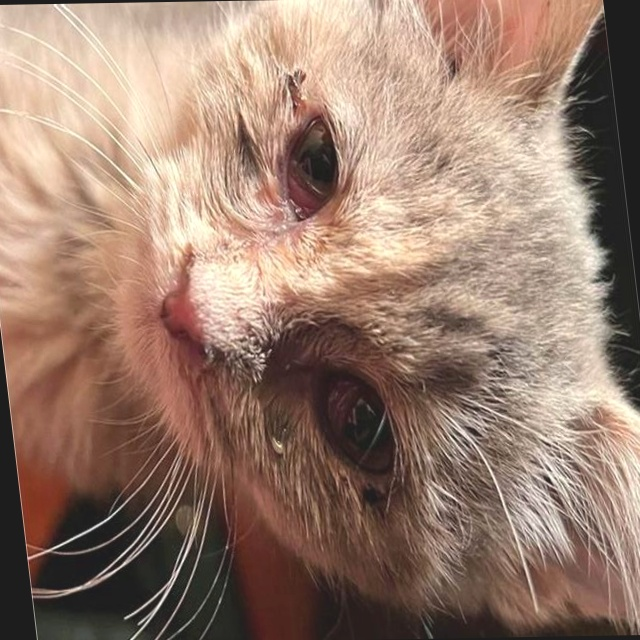eye_infection: (274, 124, 341, 222), (323, 381, 397, 469)
